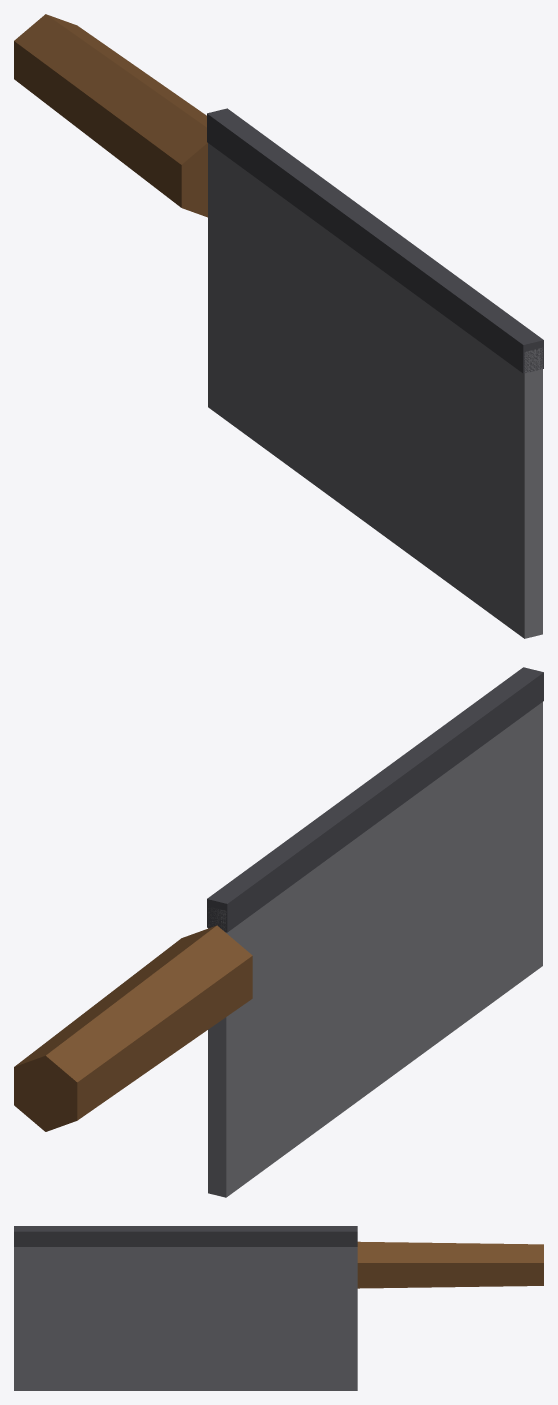
The model's file is prop_bandit_cleaver.fbx.
3 renders of one model, top to bottom at view 1: azimuth 30°, elevation 25°; view 2: azimuth 150°, elevation 25°; view 3: azimuth 270°, elevation 25°, orthographic. The views are drawn at different scales.
Parts seen in each view (by area): view 1: prop_bandit_cleaver; view 2: prop_bandit_cleaver; view 3: prop_bandit_cleaver.
Boxes of the visible parts, x1=… form: prop_bandit_cleaver: x1=14, y1=14, x2=543, y2=638; prop_bandit_cleaver: x1=14, y1=667, x2=543, y2=1197; prop_bandit_cleaver: x1=14, y1=1226, x2=543, y2=1390.
Bounding box in the file's own units: 0.0312 × 0.123 × 0.37.
1 material, 1 textured.
